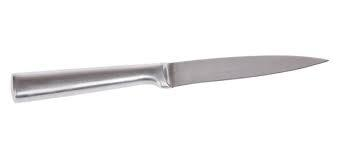Knife: (11, 54, 329, 102)
